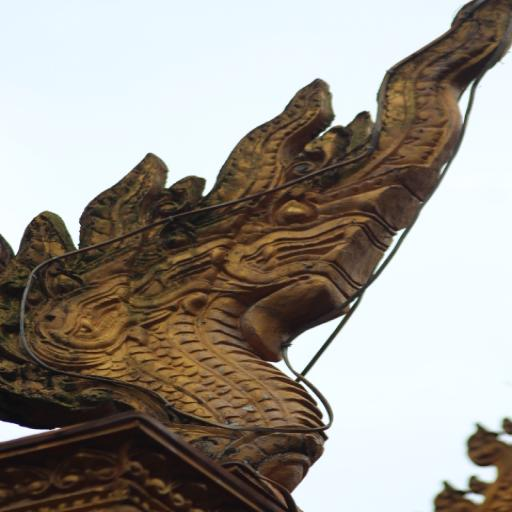ran: (0, 11, 511, 493)
